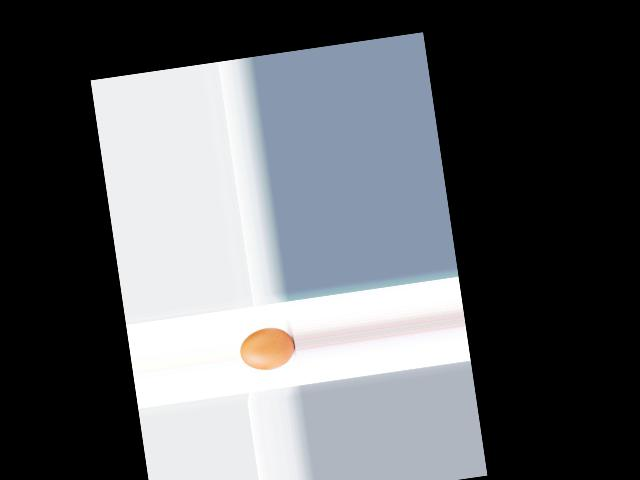egg: (238, 324, 297, 373)
